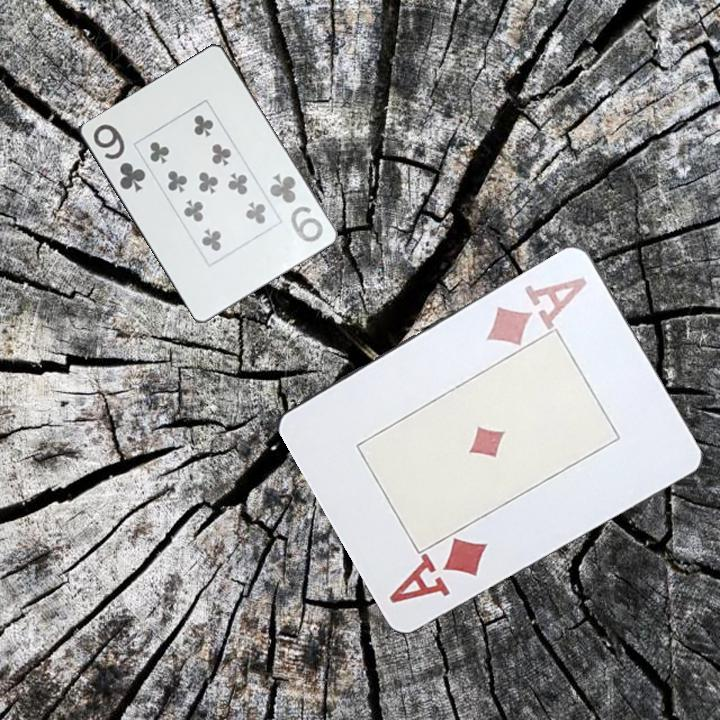9c: (265, 170, 326, 245), (89, 120, 148, 195)
Ad: (482, 272, 591, 348), (385, 534, 491, 606)
